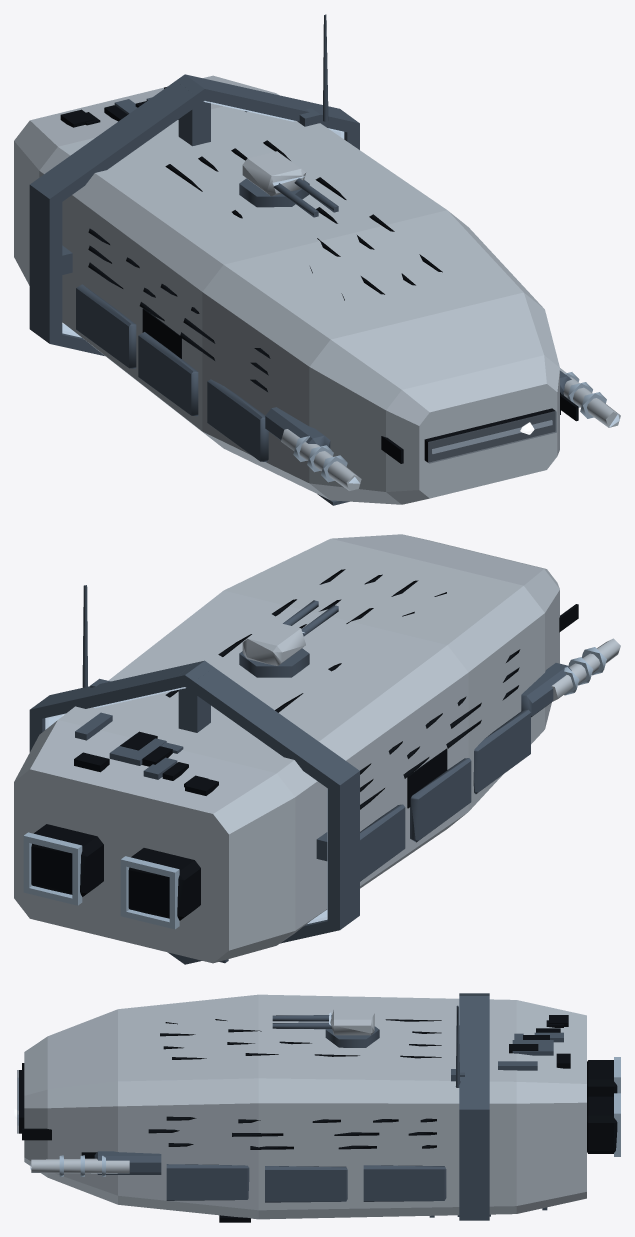
File: paragraf-wykonawcy-trade-14-lod1.glb
3 views of the same model, one above another, from view 1: azimuth 30°, elevation 25°; view 2: azimuth 150°, elevation 25°; view 3: azimuth 270°, elevation 25° (orthographic). The views are drawn at different scales.
Size of the model in its own units: 10.05 by 10.36 by 22.2.
